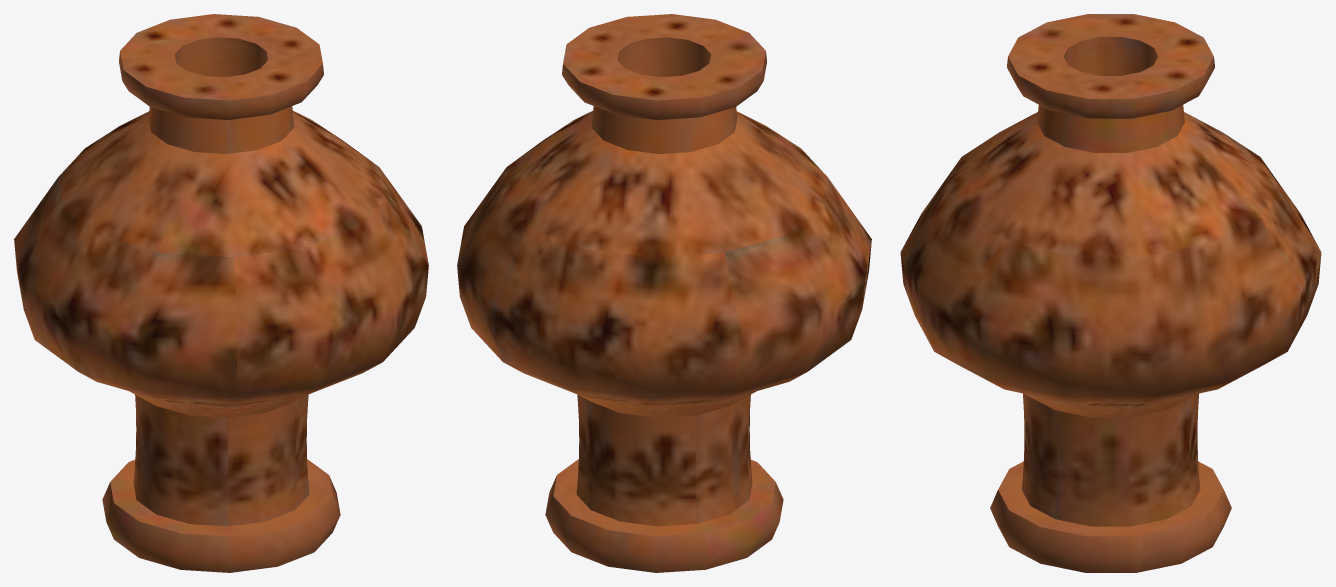
Rendered from SM_vase_02.glb.
3 renders of one model, left to right at view 1: azimuth 30°, elevation 25°; view 2: azimuth 150°, elevation 25°; view 3: azimuth 270°, elevation 25°, orthographic.
Parts seen in each view (by area): view 1: SM_vase_02; view 2: SM_vase_02; view 3: SM_vase_02.
Boxes of the visible parts, x1,y1,x2,y2 form: SM_vase_02: (14, 14, 428, 572); SM_vase_02: (457, 14, 871, 572); SM_vase_02: (900, 14, 1321, 572).
Bounding box in the file's own units: 0.5431 × 0.6863 × 0.5571.
1 material, 1 textured.
